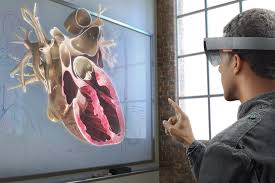hololens: (203, 36, 275, 69)
